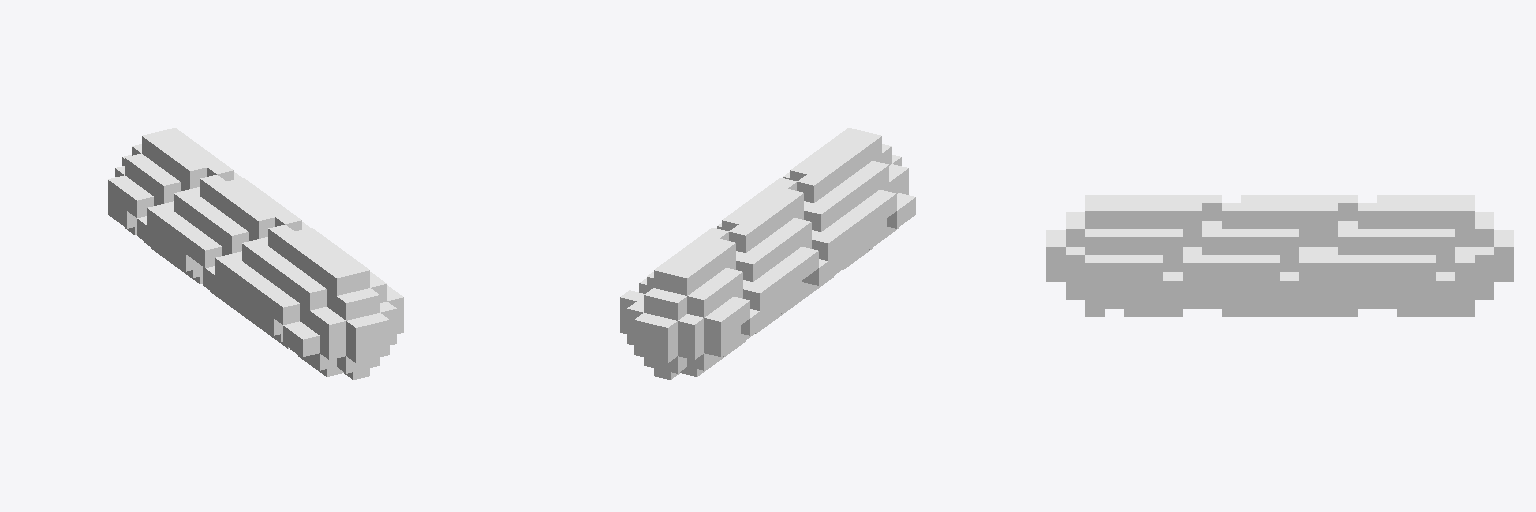
The model's file is CampFireWood.obj.
3 renders of one model, left to right at view 1: azimuth 30°, elevation 25°; view 2: azimuth 150°, elevation 25°; view 3: azimuth 270°, elevation 25°, orthographic.
Parts seen in each view (by area): view 1: CampFireWood; view 2: CampFireWood; view 3: CampFireWood.
Part boxes in pixels (x1,y1,x2,y2): CampFireWood: (108,128,403,379); CampFireWood: (620,128,915,379); CampFireWood: (1046,195,1513,316).
Size of the model in its own units: 6 by 6 by 24.